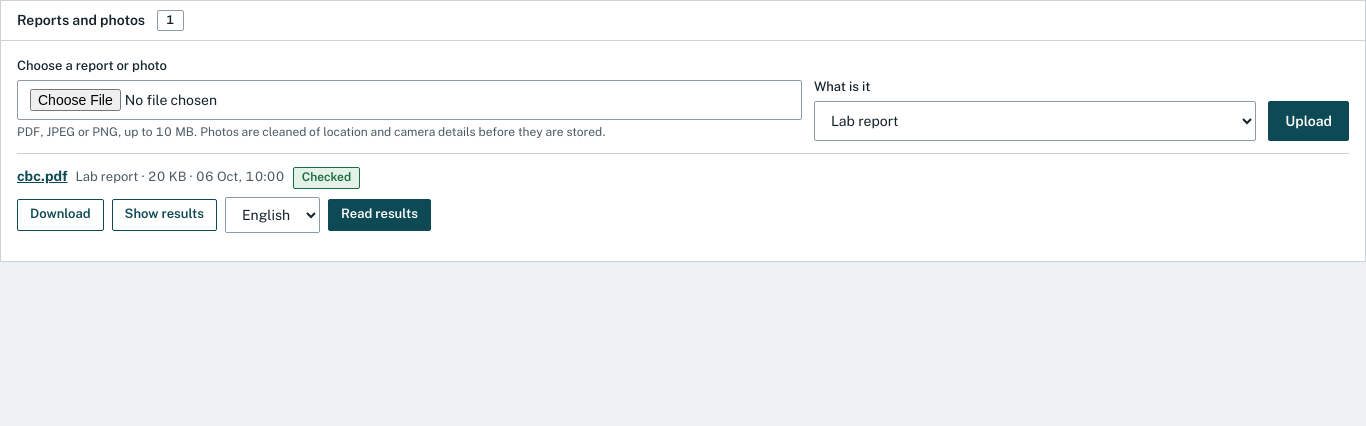
Test case: reading results and verifying rows › marks a low-confidence row so it is checked carefully
What coordinates should you click on to do the following:
click the button "Read results"
I would click on:
 (380, 215)
Its box is [328, 199, 431, 231].
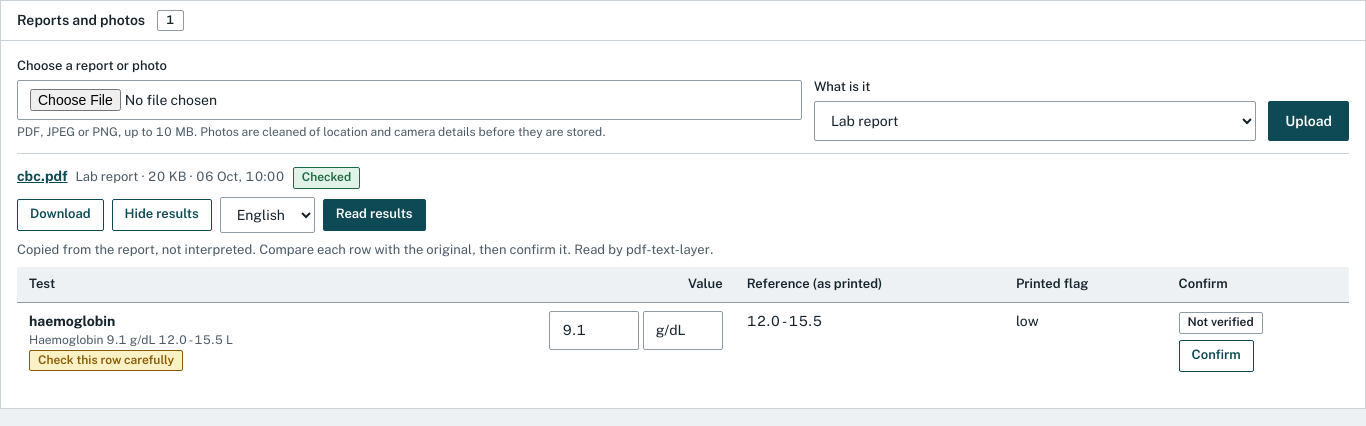
Result: the text "Check this row carefully" is shown at [29, 350, 183, 371]
